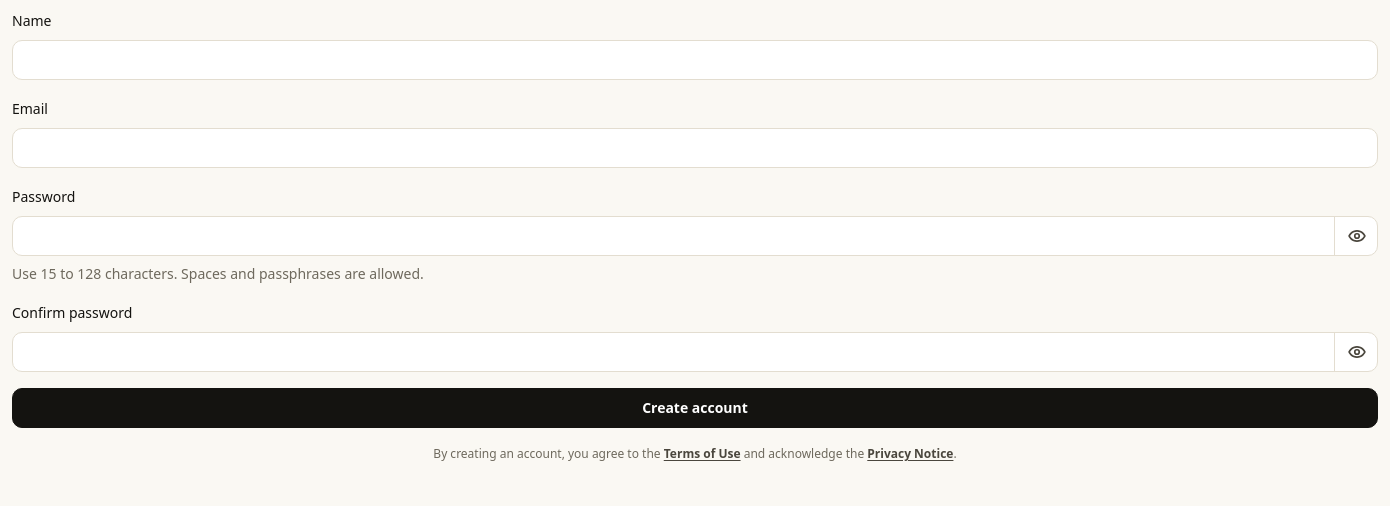
Scenario: SignupForm › provides deterministic feedback before submission
The width and height of the screenshot is (1390, 506).
Type "short" into the password field labelled "Password" at (695, 236), box [12, 216, 1378, 256]
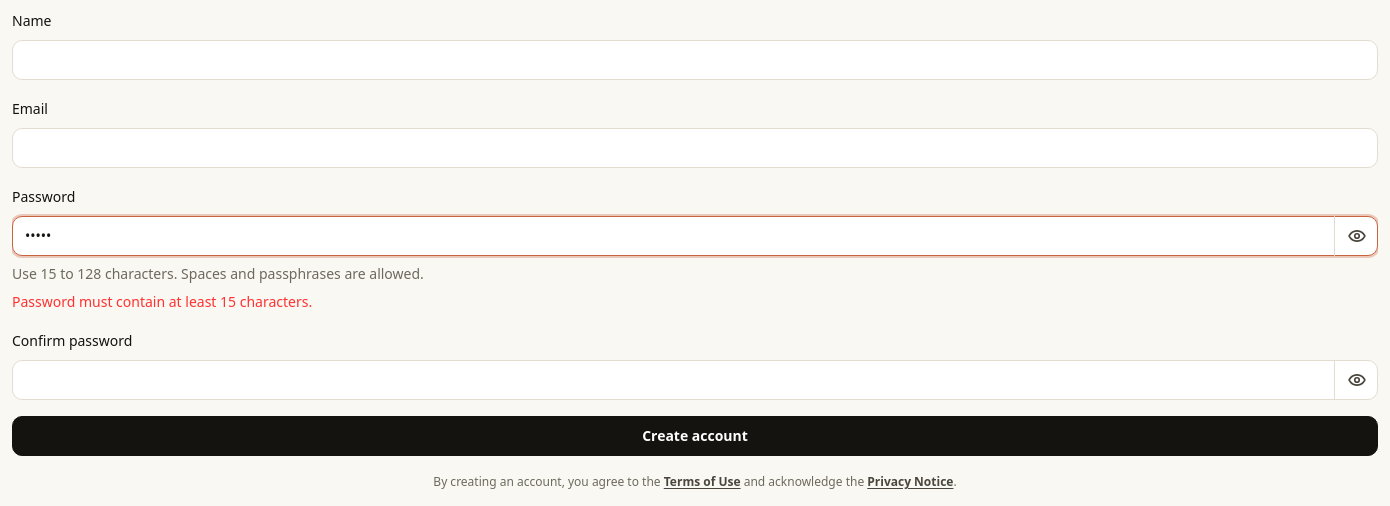
Result: the text "Password must contain at least 15 characters." is shown at [12, 292, 312, 311]
Type "a sufficiently long password" into the password field labelled "Password" at (695, 236), box [12, 216, 1378, 256]
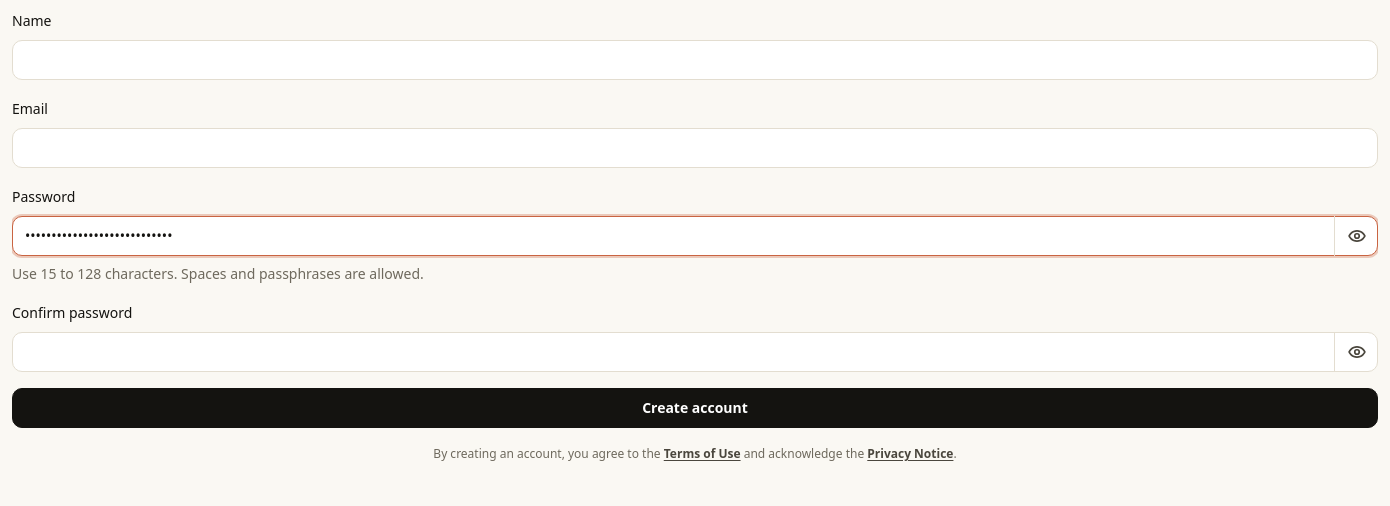
Type "a different long password" into the password field labelled "Confirm password" at (695, 352), box [12, 332, 1378, 372]
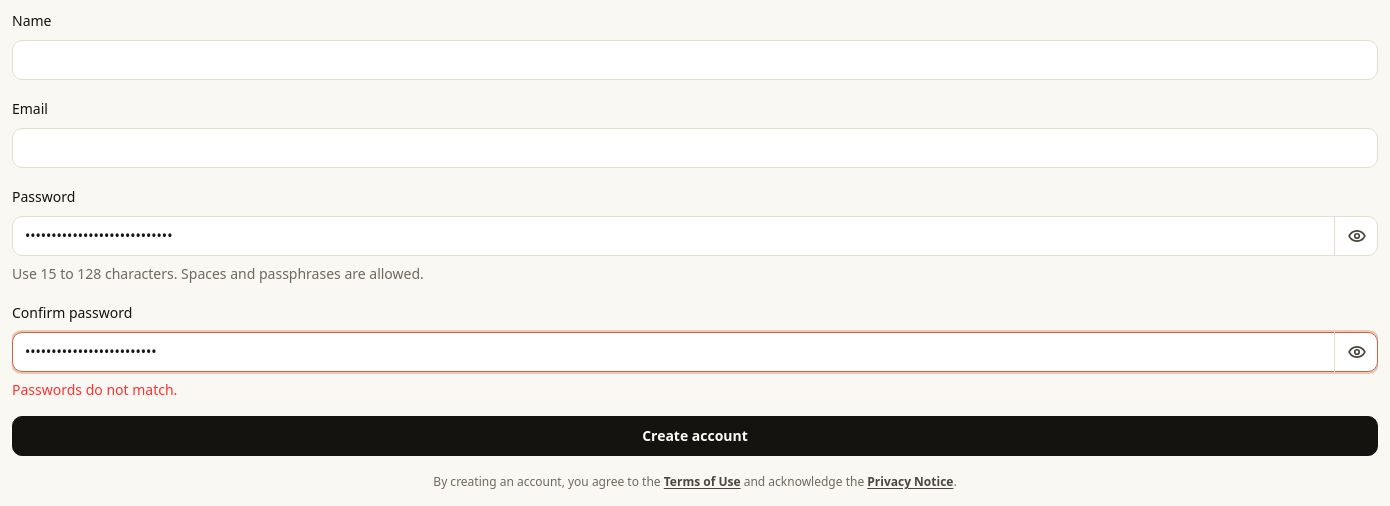
Result: the text "Passwords do not match." is shown at [12, 380, 177, 399]
